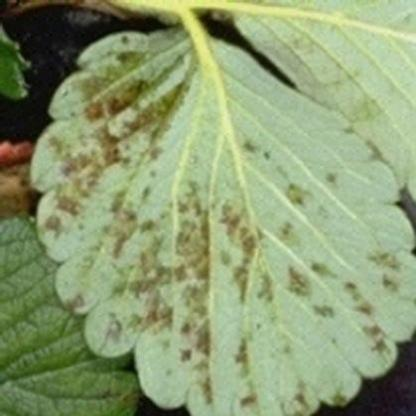Strawberry_Angular_LeafSpot: (28, 23, 416, 415)
